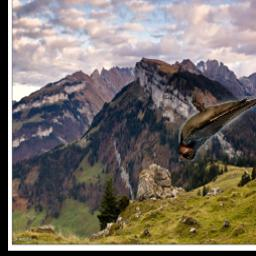Swallow: (177, 96, 256, 161)
